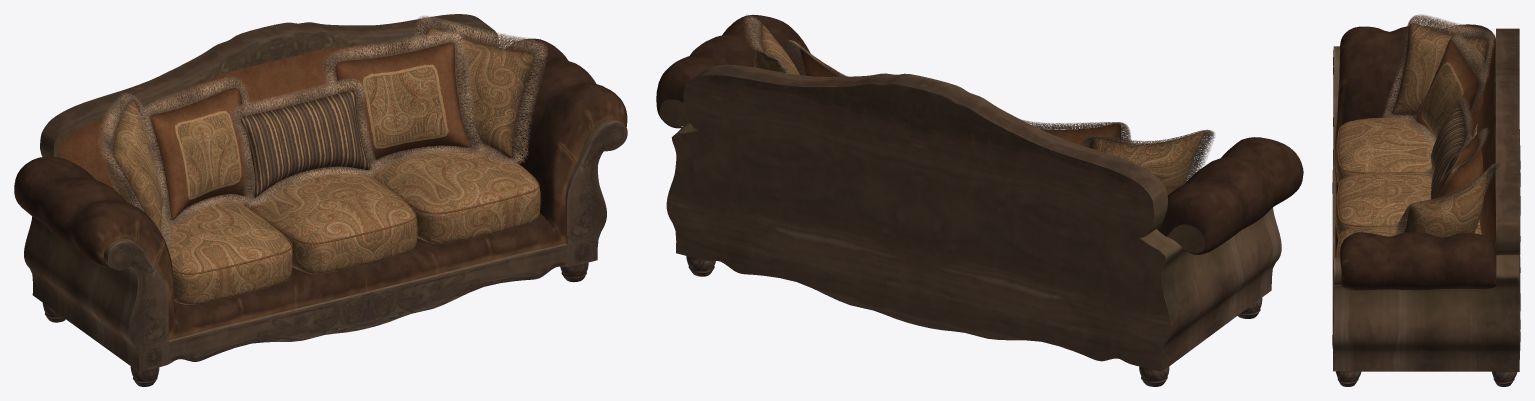
Rendered from SheenWoodLeatherSofa.glb.
The picture shows the model from 3 angles, left to right: view 1: azimuth 30°, elevation 25°; view 2: azimuth 150°, elevation 25°; view 3: azimuth 270°, elevation 25°; orthographic projection. The views are drawn at different scales.
Parts seen in each view (by area): view 1: Frame, Paisley, Fringe, Brown, Stripes, Frame_Fabric; view 2: Frame, Paisley, Fringe, Brown; view 3: Frame, Paisley, Fringe, Brown, Frame_Fabric, Stripes.
Boxes of the visible parts, x1,y1,x2,y2 form: Frame: [14, 14, 627, 386]; Paisley: [107, 27, 540, 304]; Fringe: [98, 16, 547, 246]; Brown: [150, 42, 539, 274]; Stripes: [174, 64, 448, 199]; Frame_Fabric: [57, 34, 494, 189]; Frame: [656, 14, 1303, 386]; Paisley: [754, 23, 1204, 194]; Fringe: [743, 14, 1214, 182]; Brown: [800, 46, 1121, 147]; Frame: [1332, 24, 1520, 386]; Paisley: [1335, 23, 1487, 257]; Fringe: [1382, 14, 1499, 235]; Brown: [1336, 40, 1483, 257]; Frame_Fabric: [1477, 39, 1495, 245]; Stripes: [1422, 61, 1472, 198].
Size of the model in its own units: 2.73 by 1.12 by 0.9232.
Materials: 6 (6 with a texture image).
